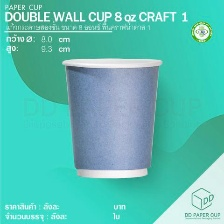paper_cup: (57, 52, 167, 183)
